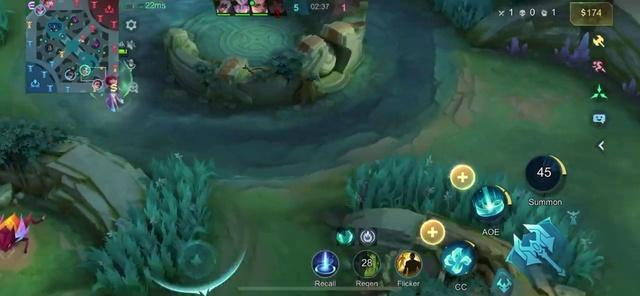Adc_Aliado: (92, 79, 103, 90)
Adc_Enemigo: (109, 75, 117, 85)
Arbusto: (345, 154, 602, 280), (84, 154, 221, 292)
Esbirro_Jungla: (0, 213, 37, 252)
Exp_Aliado: (33, 5, 46, 17)
Hechizo_Batalla: (395, 250, 421, 277)
Jungla_Aliado: (64, 68, 76, 81)
Mid_Aliado: (78, 64, 92, 76)
Minimapa: (26, 0, 119, 93)
Roamer_Enemigo: (105, 75, 111, 87)
Skill1: (440, 241, 476, 275)
Skill2: (471, 186, 511, 221)
Vexana: (106, 90, 123, 111)
